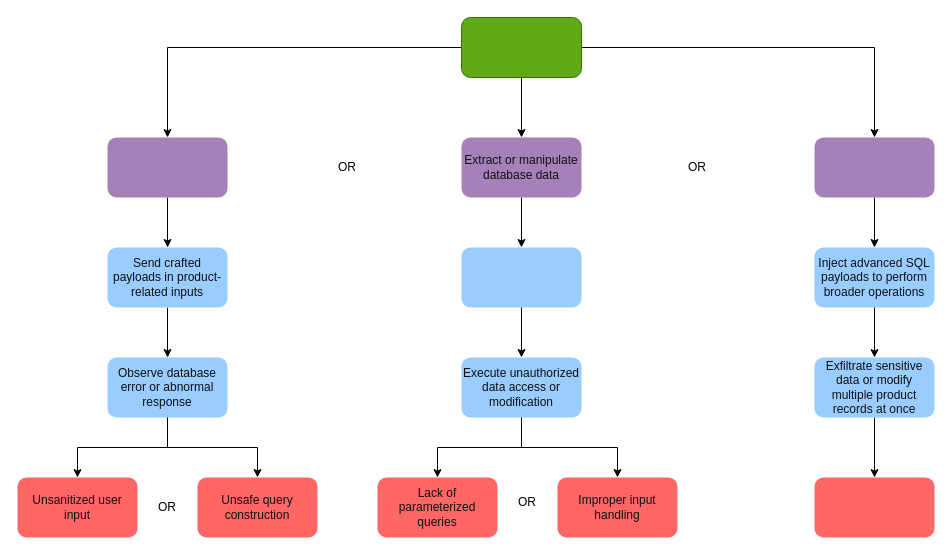
The diagram is 951 pixels wide and 555 high, and some of its shapes have lost their labels. Here are the shapes that lost their labels. From the top down, the box of each, then its label:
(460, 16, 582, 78): Exploit SQL injection in product-related endpoints
(107, 137, 227, 197): Identify injectable input
(814, 137, 934, 197): Resource exhaustion
(461, 247, 581, 307): Inject SQL payloads to bypass query logic
(814, 477, 934, 537): Absence of query isolation and database-level access controls
